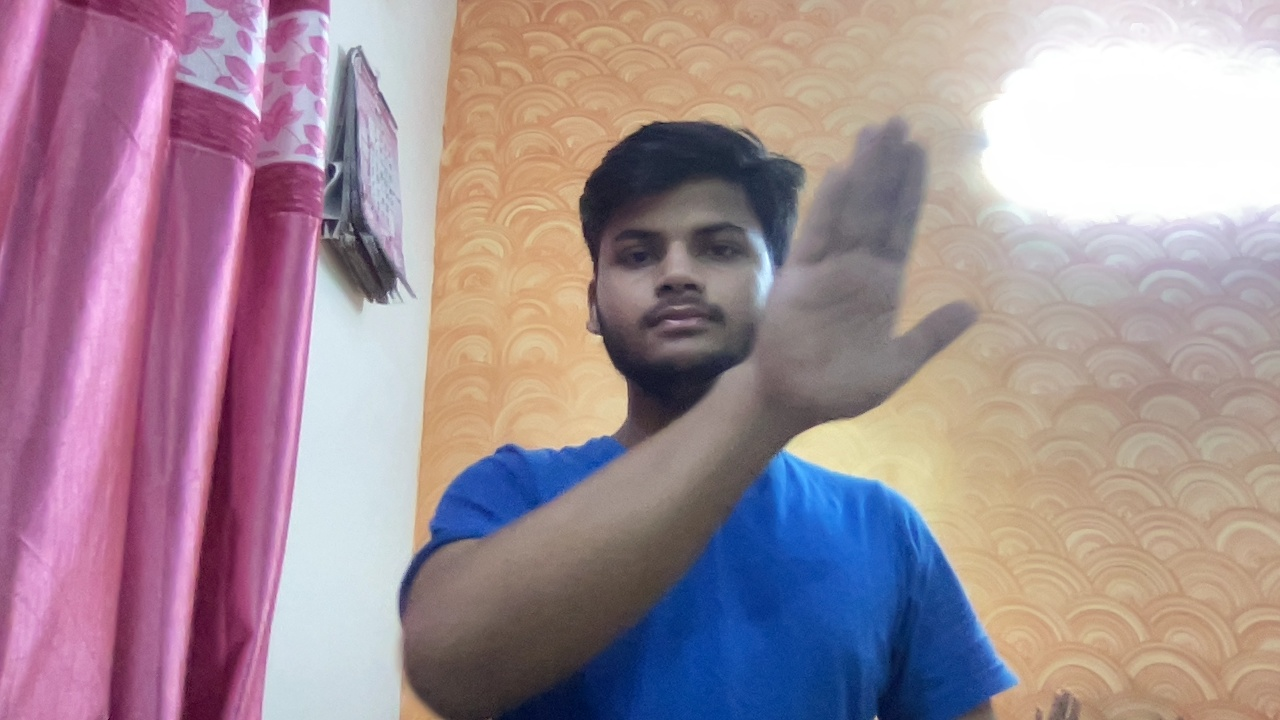hello: (763, 111, 994, 443)
